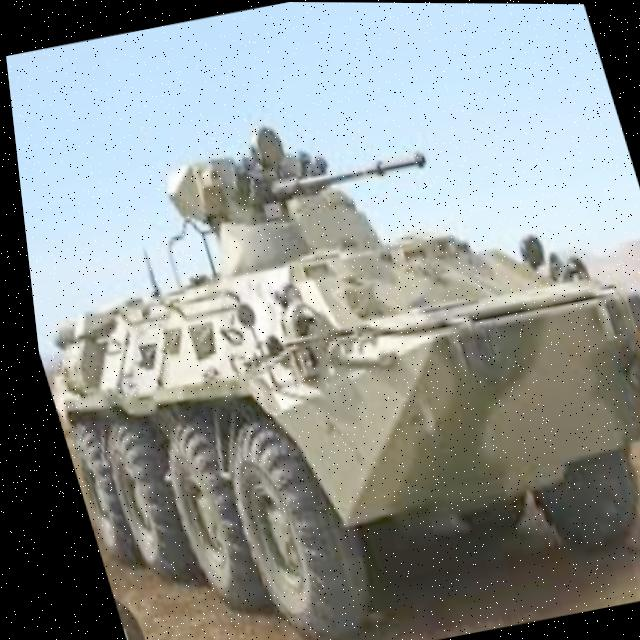MIL_APC: (9, 100, 640, 640)
